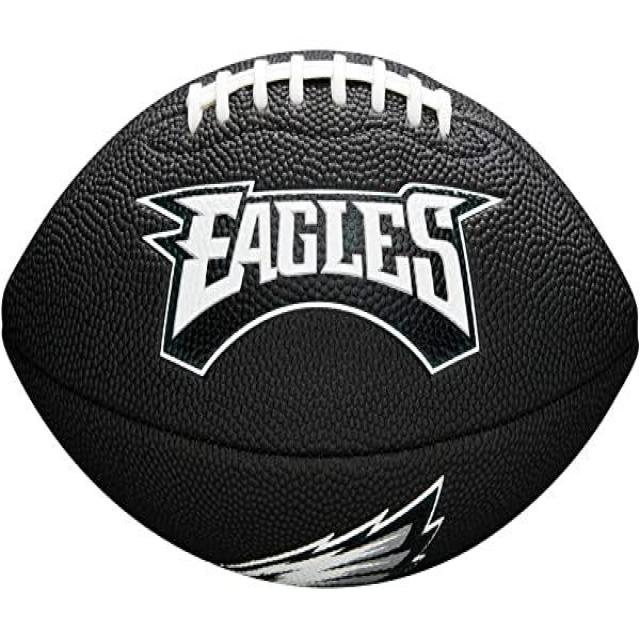ball: (3, 49, 640, 602)
